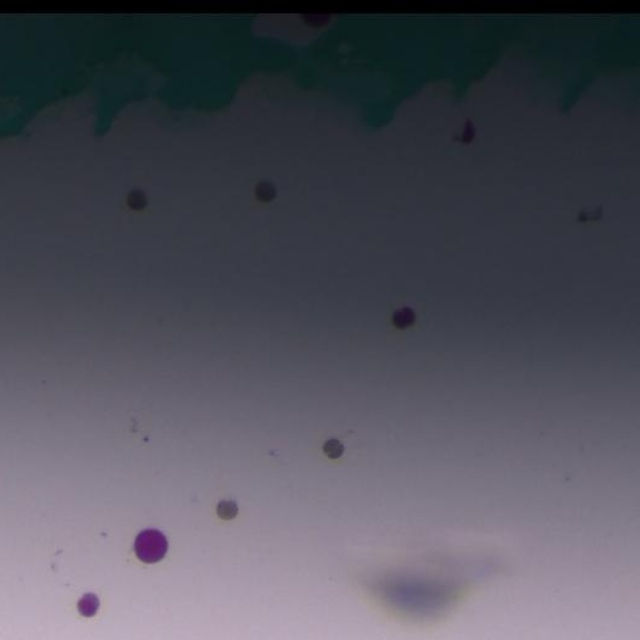non_viable: (391, 306, 416, 329), (126, 188, 148, 211), (216, 499, 238, 521), (255, 180, 276, 202), (322, 438, 344, 458)
viable: (134, 528, 167, 562), (77, 592, 99, 616), (299, 13, 332, 28)
